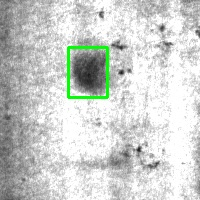patches: (68, 47, 107, 97)
